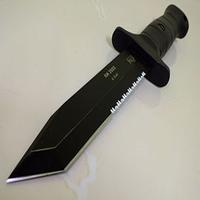knife: (4, 12, 181, 186)
